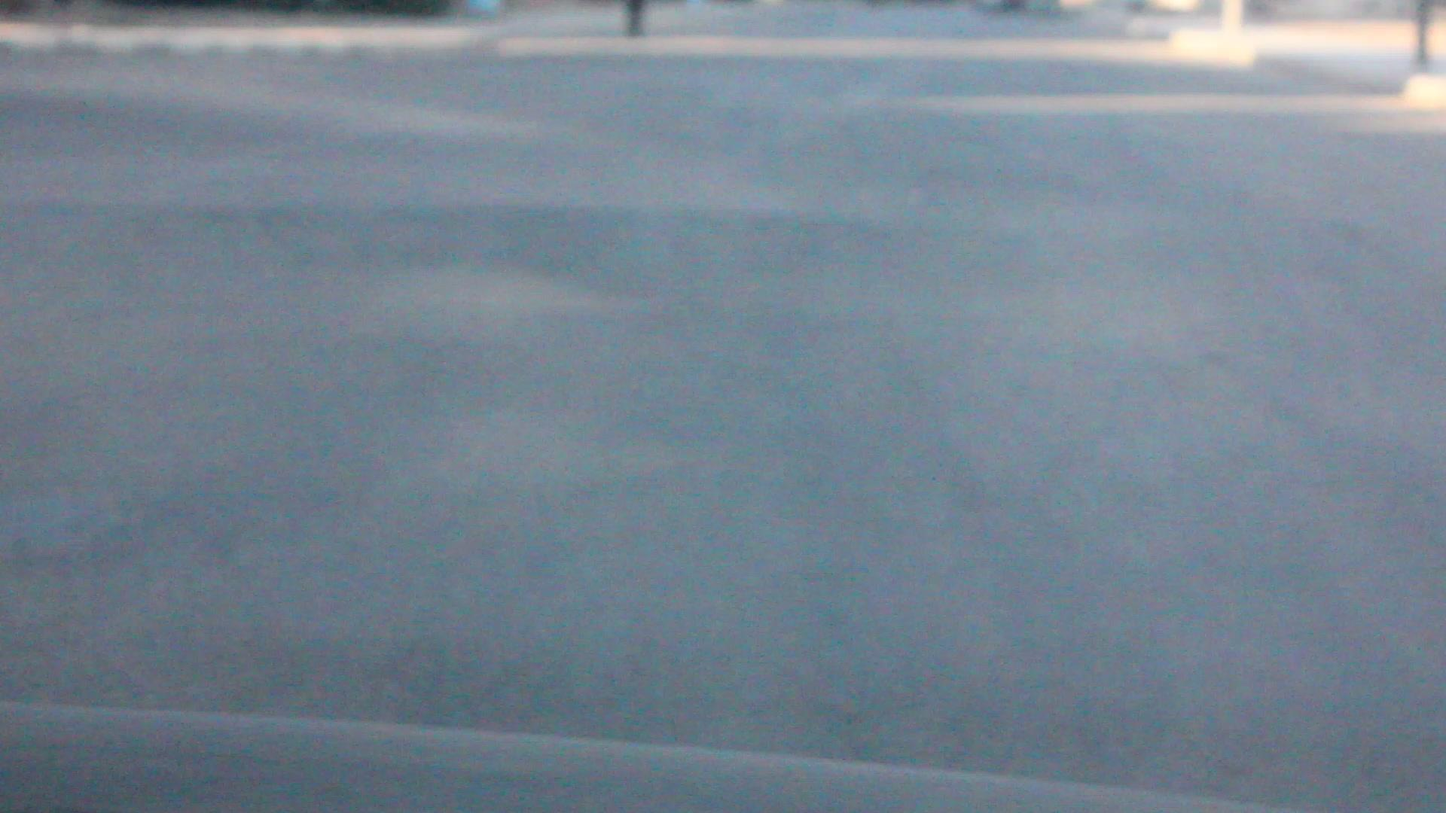Bump: (9, 205, 1446, 333)
